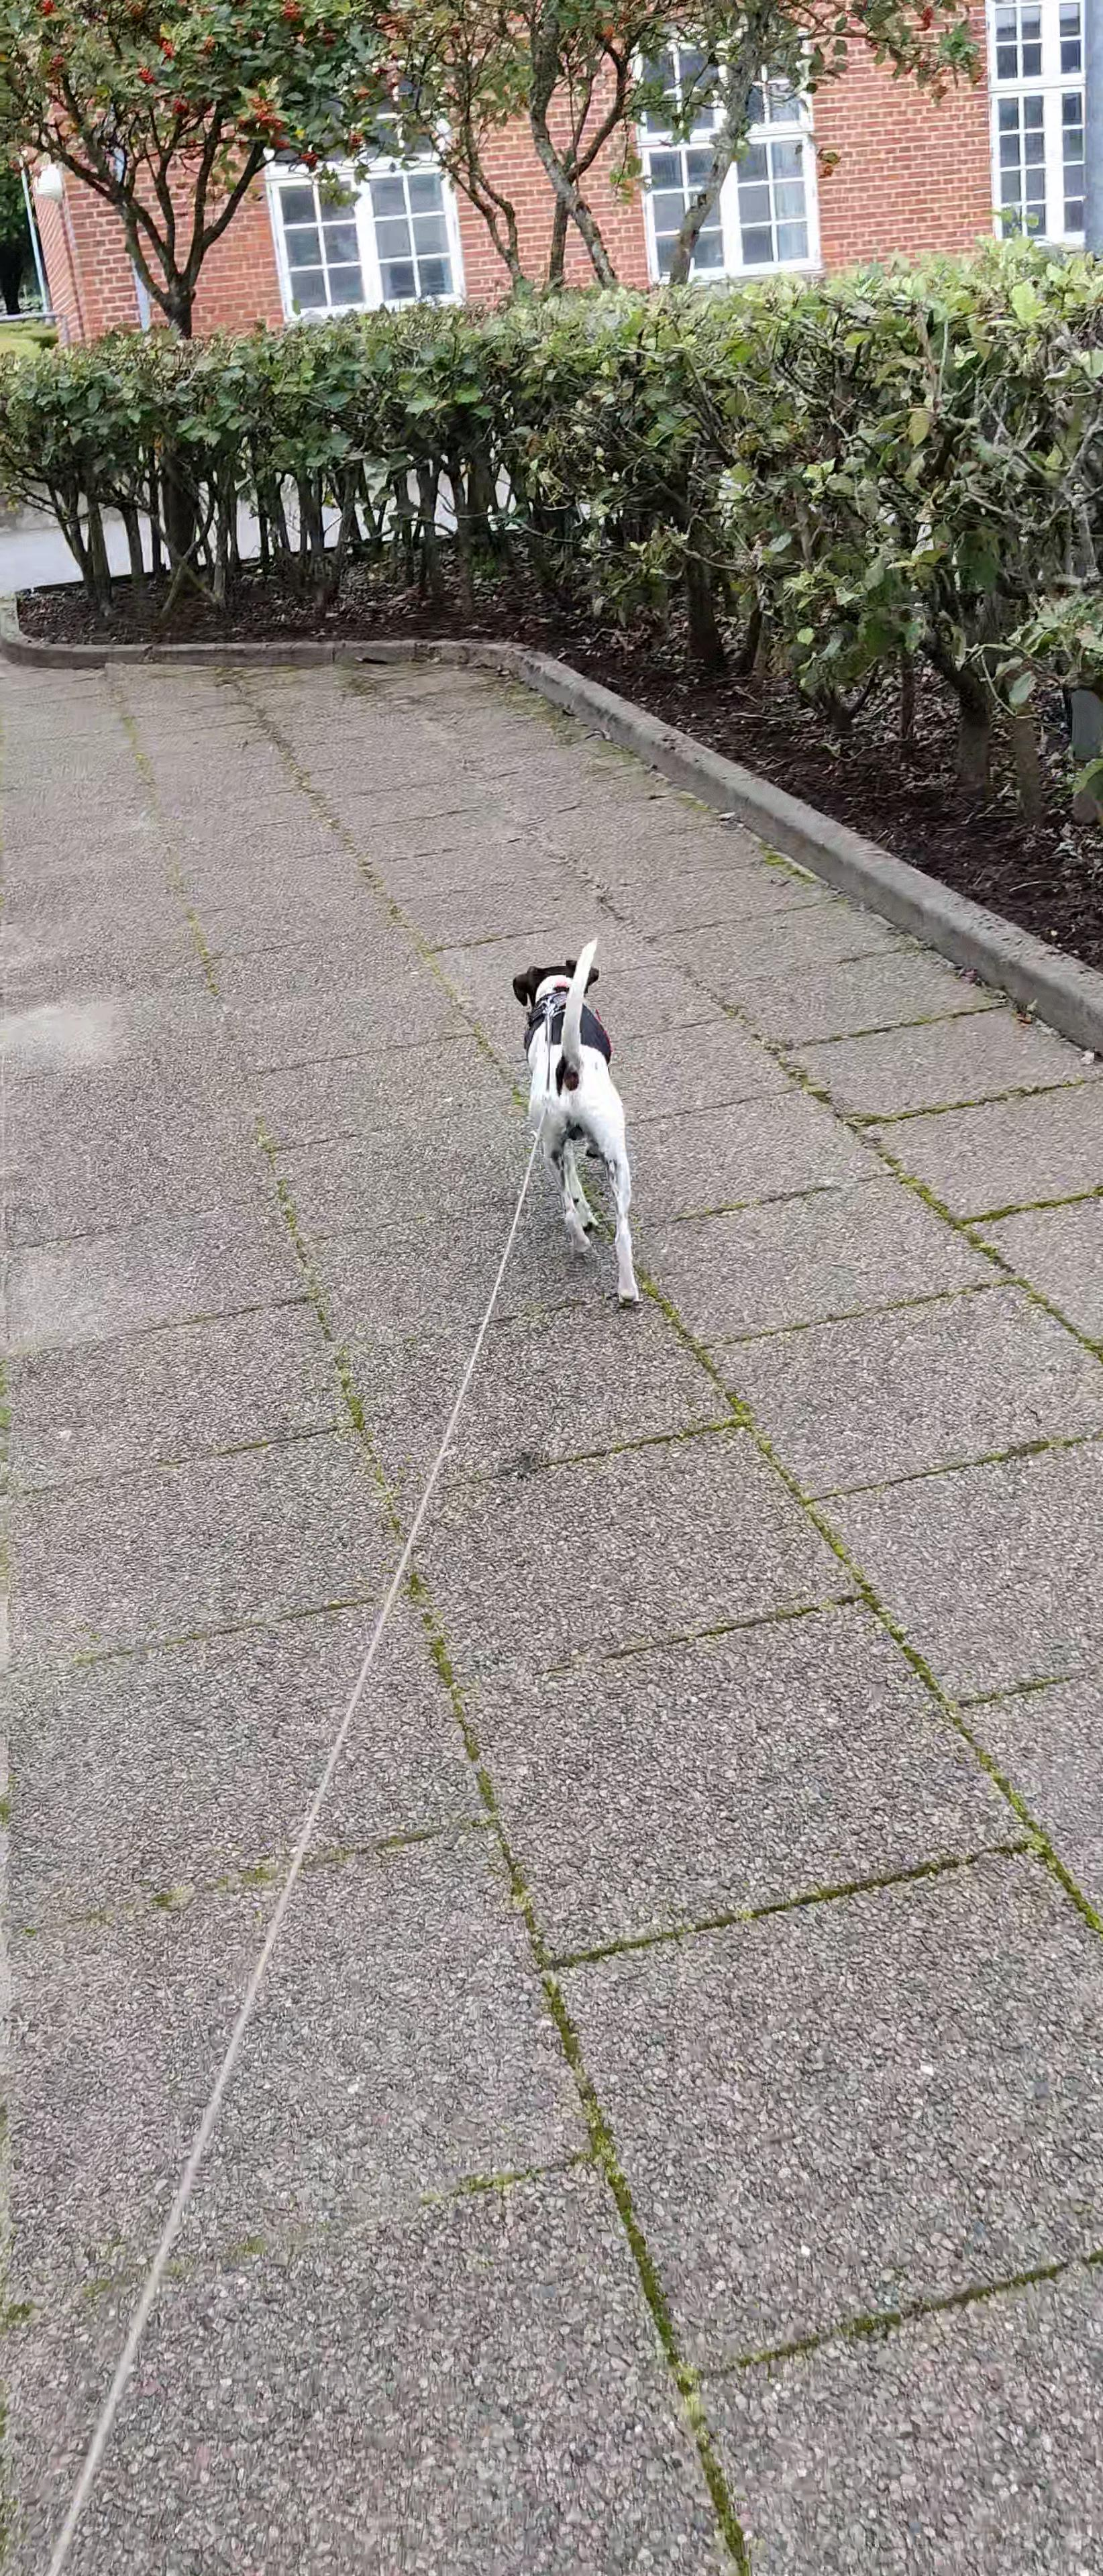Dog: (495, 933, 649, 1318)
